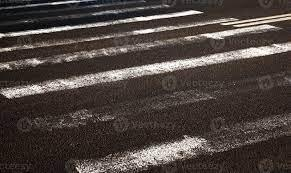faded_road_lines: (0, 42, 290, 97), (31, 71, 290, 130), (0, 24, 281, 71), (77, 113, 290, 172), (0, 18, 237, 52), (0, 4, 169, 25), (0, 2, 86, 17), (73, 1, 140, 9)
